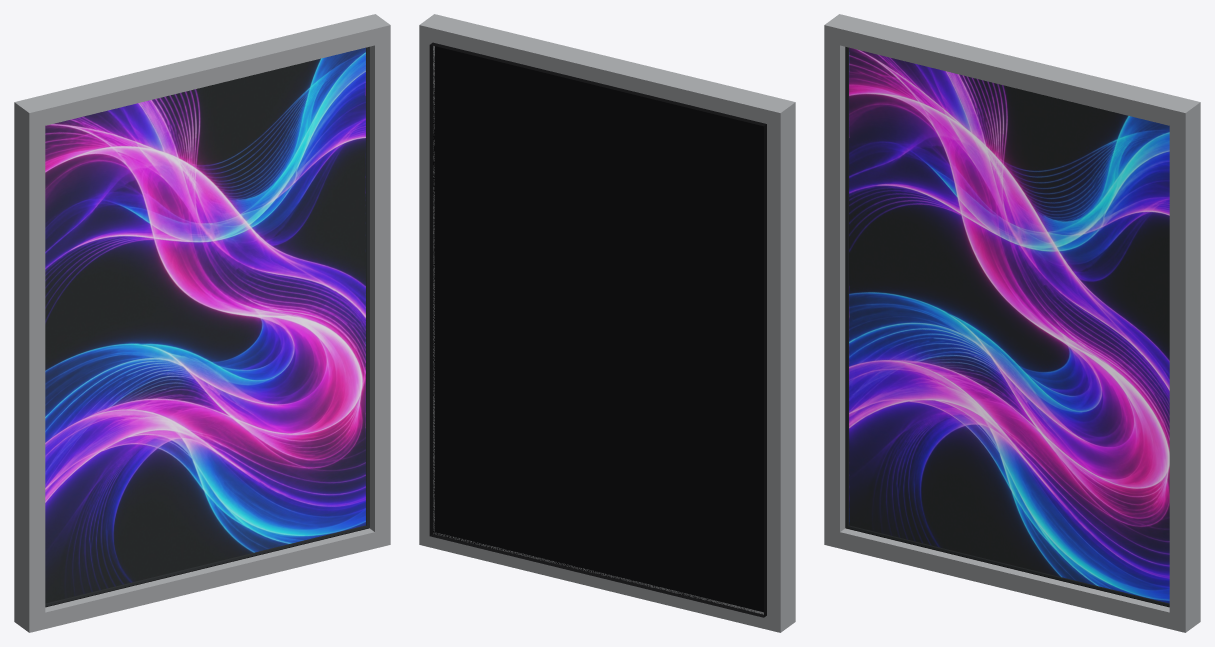
Rendered from gteki_poster_lightbox_08.glb.
3 views of the same model, side by side, from view 1: azimuth 30°, elevation 25°; view 2: azimuth 150°, elevation 25°; view 3: azimuth 330°, elevation 25° (orthographic).
Parts seen in each view (by area): view 1: VIS_body; view 2: VIS_body; view 3: VIS_body.
Part boxes in pixels (bbox=[...]): VIS_body: bbox=[14, 14, 390, 632]; VIS_body: bbox=[419, 14, 795, 632]; VIS_body: bbox=[824, 14, 1200, 632].
Size of what is drawn, in the model's own units: 0.8 by 1.1 by 0.07.
Materials: 3 (3 with a texture image).
